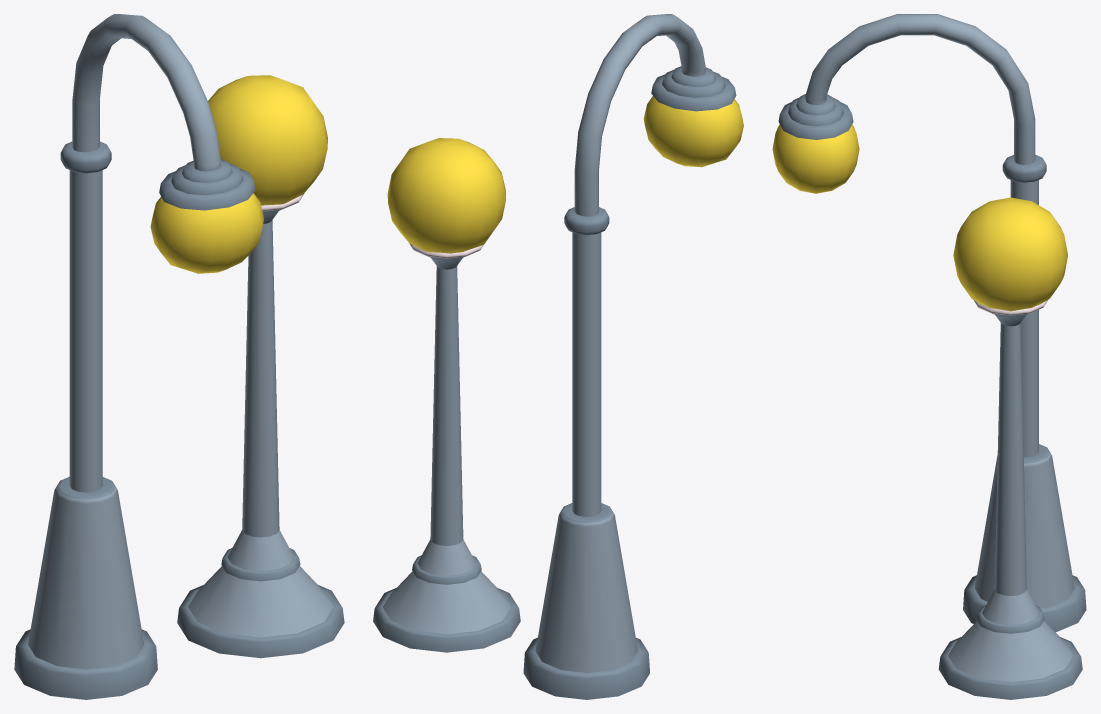
Rendered from Lamp.fbx.
The picture shows the model from 3 angles, left to right: view 1: azimuth 30°, elevation 25°; view 2: azimuth 150°, elevation 25°; view 3: azimuth 270°, elevation 25°; orthographic projection. The views are drawn at different scales.
Parts seen in each view (by area): view 1: Lamp_1, Lamp_2; view 2: Lamp_1, Lamp_2; view 3: Lamp_2, Lamp_1.
Part boxes in pixels (x1,y1,x2,y2): Lamp_1: [14, 14, 263, 699]; Lamp_2: [177, 75, 344, 658]; Lamp_1: [523, 14, 743, 699]; Lamp_2: [373, 138, 520, 652]; Lamp_2: [938, 197, 1082, 699]; Lamp_1: [772, 14, 1086, 632].
Size of the model in its own units: 120 by 264 by 126.
